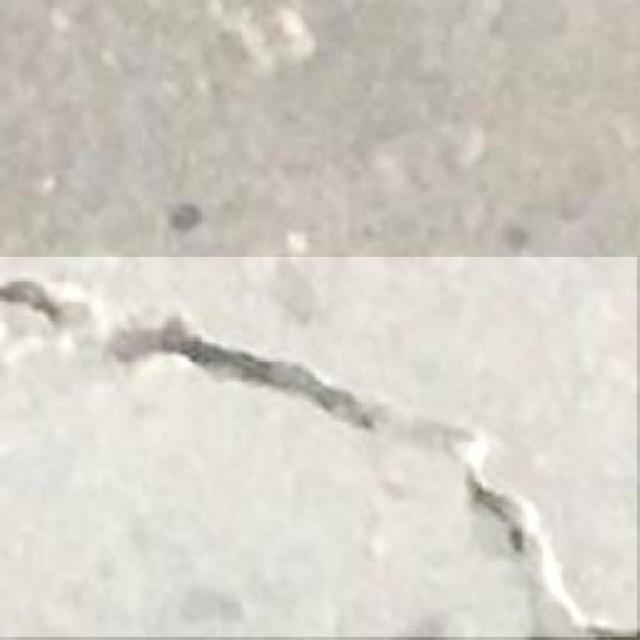Crack: (0, 244, 640, 634)
